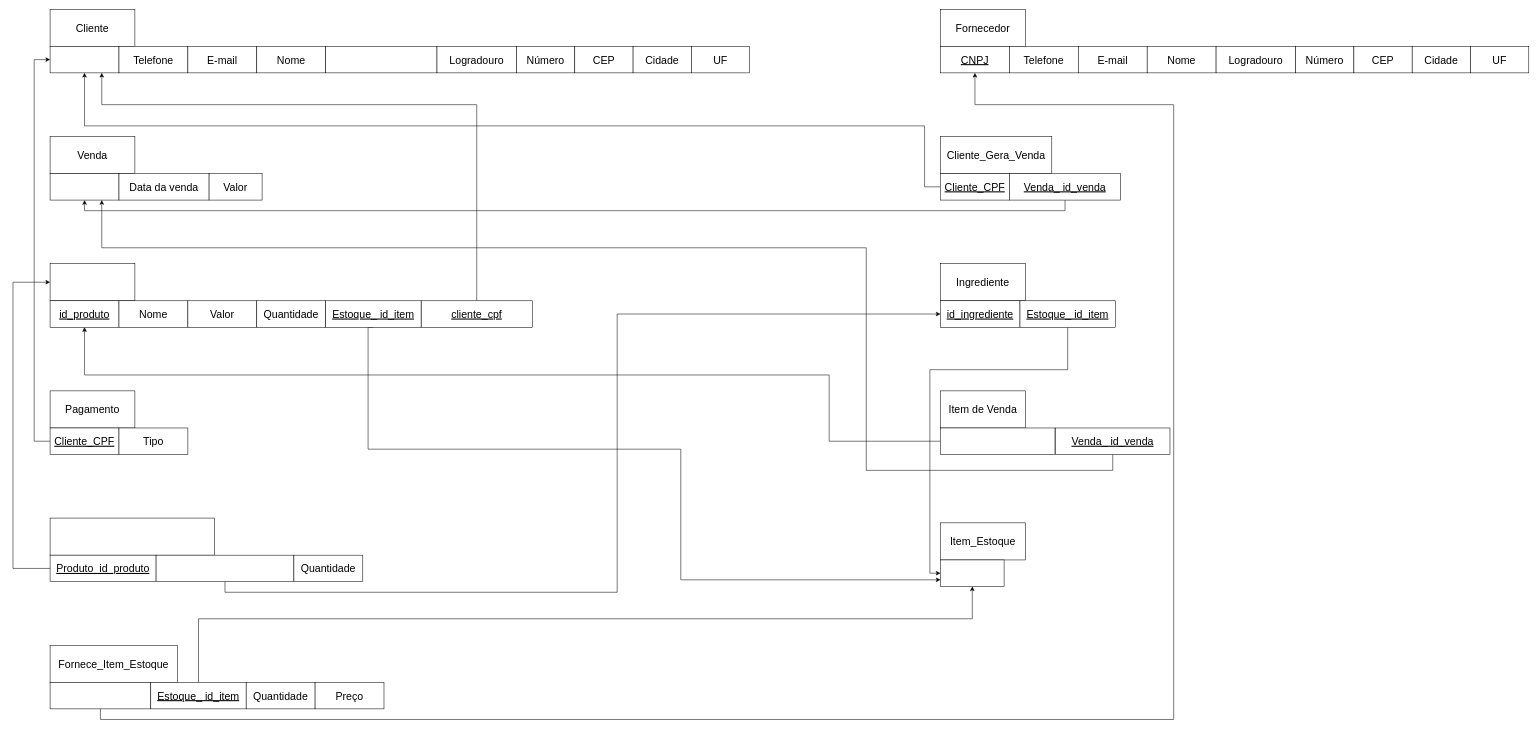
This 1538x733 diagram has some shape labels left out. The shapes that lost their labels are listed below. From the top down, each one's centre as x and y in pixels, then its label:
(84,59): CPF
(381,59): Tipo de Assinatura
(84,186): id_venda
(92,282): Produto
(997,440): Produto_ id_produto
(132,536): Produto_Constituido_Ingrediente
(225,568): Ingrediente_id_ingrediente
(972,572): id_item
(100,695): Fornecedor_CNPJ
